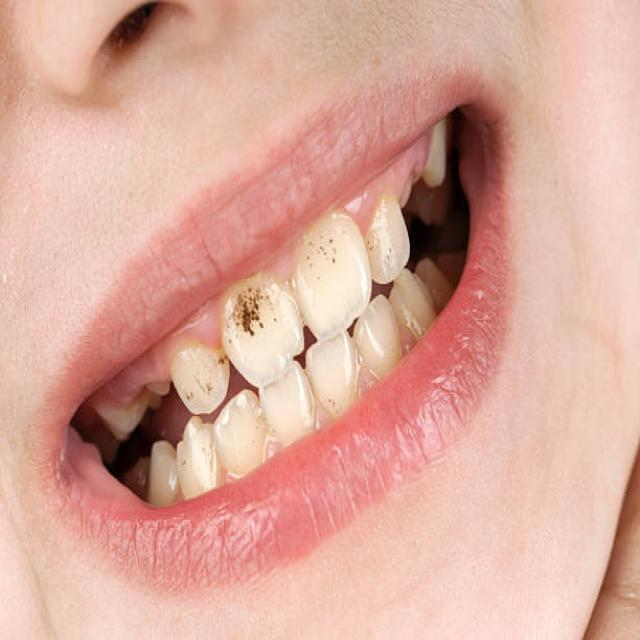Tooth Discoloration: (170, 214, 399, 421)
